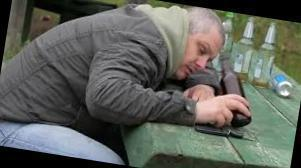Drunk: (182, 32, 219, 80)
